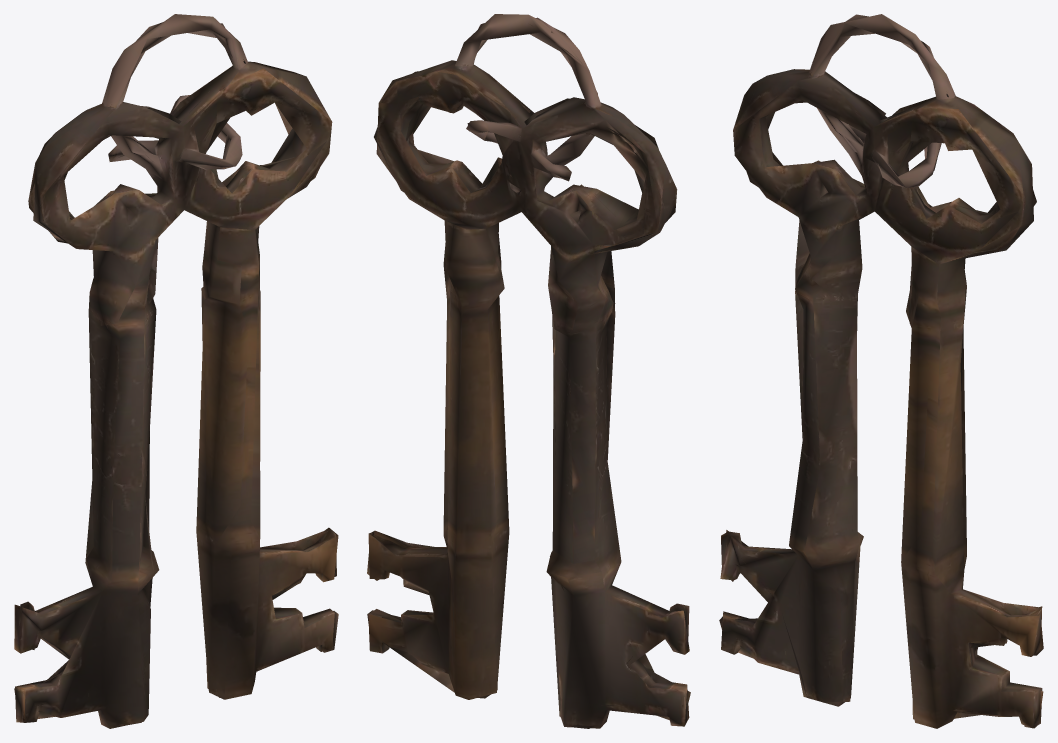
Rendered from keys.glb.
The picture shows the model from 3 angles, left to right: view 1: azimuth 30°, elevation 25°; view 2: azimuth 150°, elevation 25°; view 3: azimuth 330°, elevation 25°; orthographic projection.
Visible parts, largest first — view 1: geometry_0; view 2: geometry_0; view 3: geometry_0.
Part boxes in pixels (bbox=[...]): geometry_0: bbox=[14, 14, 338, 728]; geometry_0: bbox=[367, 14, 690, 728]; geometry_0: bbox=[719, 14, 1043, 728].
Bounding box in the file's own units: 0.4772 × 0.9931 × 0.103.
Materials: 1 (1 with a texture image).
